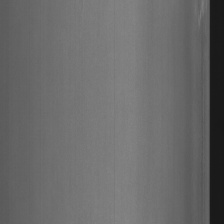silk_spot: (193, 0, 209, 52)
